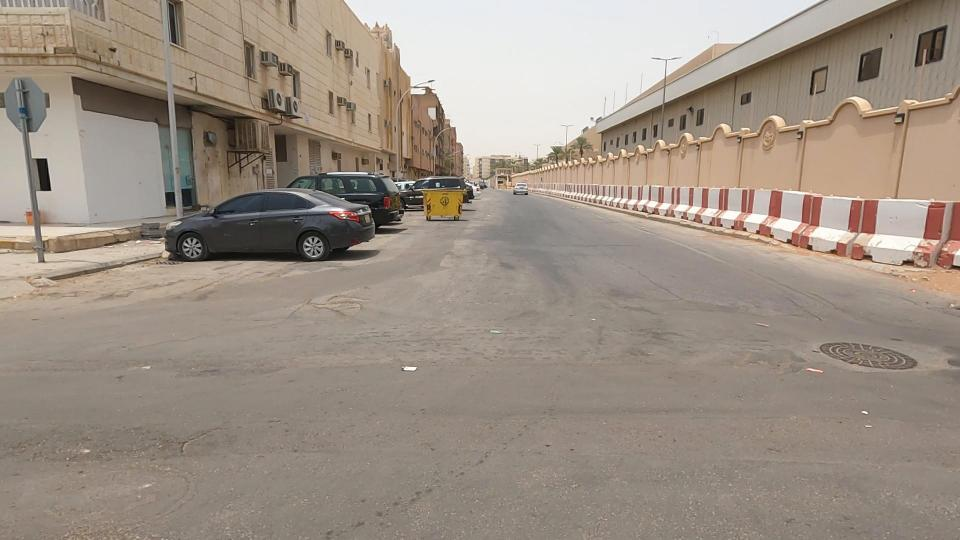CONSTRUCTION_ROAD: (614, 153, 920, 295), (539, 134, 704, 270)
